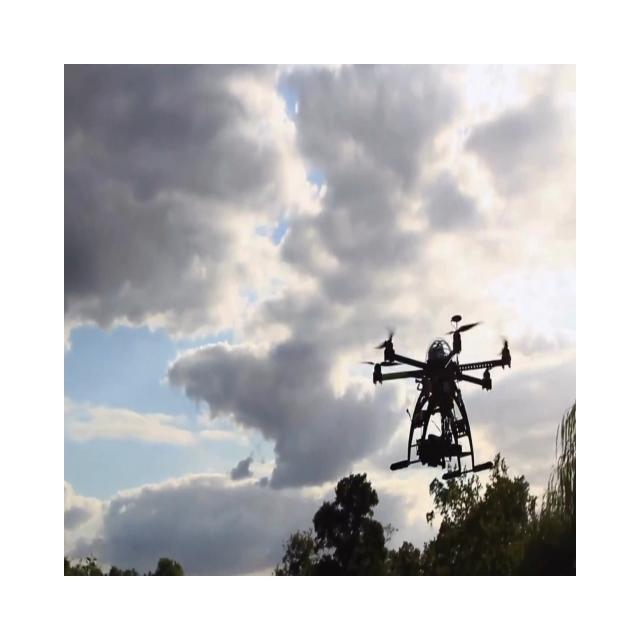drone: (359, 313, 512, 479)
